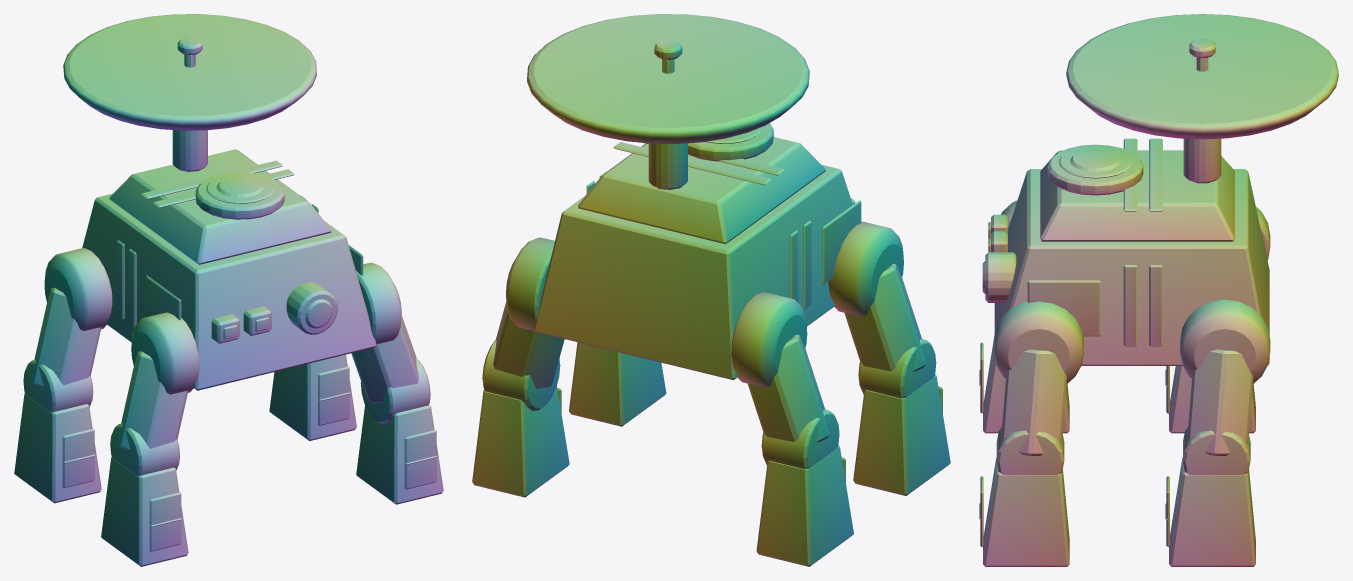
File: bulwark_rig.glb
3 renders of one model, left to right at view 1: azimuth 30°, elevation 25°; view 2: azimuth 150°, elevation 25°; view 3: azimuth 270°, elevation 25°, orthographic. The views are drawn at different scales.
Visible parts, largest first — view 1: body, tshin_3, tshin_1, tshin_0, tleg_3, tleg_1, tshin_2, tleg_0; view 2: body, tshin_1, tshin_3, tshin_2, tleg_3, tleg_1, tshin_0, tleg_2; view 3: body, tshin_0, tshin_2, tleg_0, tleg_2, tshin_1, tshin_3.
Boxes of the visible parts, left/top/right/bottom form: body: left=44, top=14, right=401, bottom=394; tshin_3: left=14, top=393, right=101, bottom=503; tshin_1: left=101, top=457, right=188, bottom=566; tshin_0: left=356, top=405, right=443, bottom=504; tleg_3: left=23, top=287, right=101, bottom=412; tleg_1: left=110, top=351, right=187, bottom=475; tshin_2: left=269, top=354, right=356, bottom=440; tleg_0: left=351, top=315, right=430, bottom=423; body: left=506, top=14, right=903, bottom=387; tshin_1: left=853, top=374, right=950, bottom=495; tshin_3: left=756, top=445, right=853, bottom=566; tshin_2: left=472, top=386, right=569, bottom=497; tleg_3: left=748, top=334, right=839, bottom=469; tleg_1: left=844, top=264, right=936, bottom=398; tshin_0: left=569, top=342, right=666, bottom=426; tleg_2: left=482, top=302, right=564, bottom=410; body: left=982, top=14, right=1338, bottom=384; tshin_0: left=979, top=457, right=1069, bottom=566; tshin_2: left=1165, top=457, right=1255, bottom=566; tleg_0: left=996, top=349, right=1066, bottom=474; tleg_2: left=1183, top=349, right=1253, bottom=474; tshin_1: left=979, top=335, right=1069, bottom=433; tshin_3: left=1165, top=366, right=1255, bottom=433.
Size of the model in its own units: 6.69 by 8.7 by 6.37.
